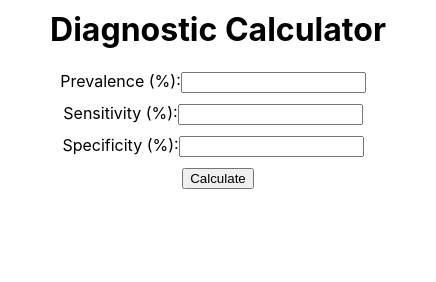
Scenario: handles edge case with very low specificity (1%)
This screenshot has width=436, height=282.
Type "50" into the number field labelled "Prevalence (%):".
click(273, 82); type("50")  # box [181,72,366,93]
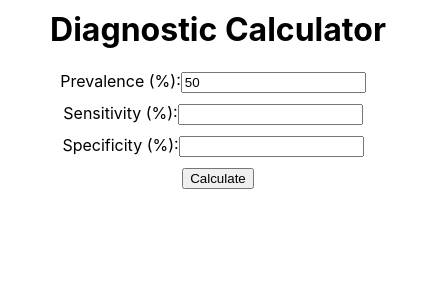
Type "99" into the number field labelled "Sensitivity (%):".
click(270, 114); type("99")  # box [178,104,363,125]
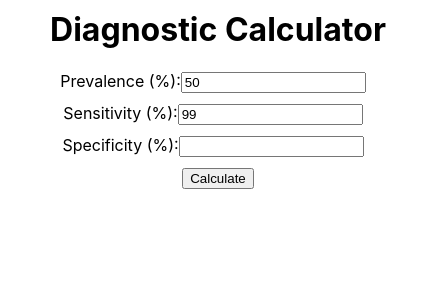
Type "1" into the number field labelled "Specificity (%):".
click(271, 146); type("1")  # box [179,136,364,157]
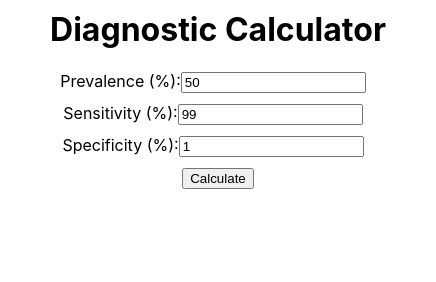
Click the button "Calculate".
click(218, 178)  # box [182,168,254,189]
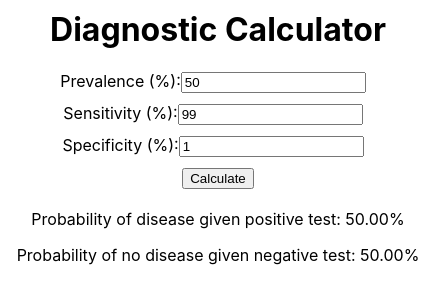
expect the text "Probability of disease given positive test: 50.00%" is shown: met, box [31,209,405,229]
expect the text "Probability of no disease given negative test: 50.00%" is shown: met, box [17,245,419,265]
